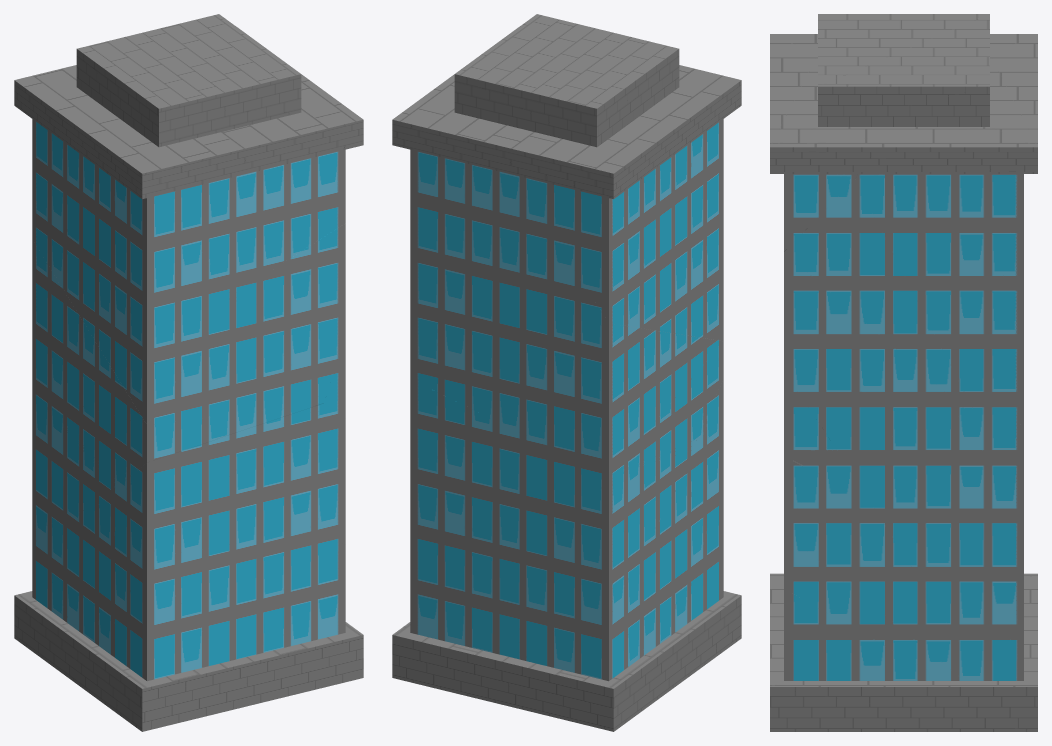
File: SkyScratcher3_destructable.fbx
3 views of the same model, side by side, from view 1: azimuth 30°, elevation 25°; view 2: azimuth 150°, elevation 25°; view 3: azimuth 270°, elevation 25° (orthographic). The views are drawn at different scales.
Parts seen in each view (by area): view 1: SkyScratcher3_destructable, SkyScratcher3_b.001_cell.010, SkyScratcher3_b.001_cell.004, SkyScratcher3_b.001_cell.011, SkyScratcher3_b.001_cell.002, SkyScratcher3_b.001_cell.009, SkyScratcher3_b.001_cell.007, SkyScratcher3_b.001_cell.006, SkyScratcher3_b.001_cell.013, SkyScratcher3_b.001_cell.008; view 2: SkyScratcher3_b.001_cell.010, SkyScratcher3_b.001_cell.006, SkyScratcher3_destructable, SkyScratcher3_b.001_cell, SkyScratcher3_b.001_cell.004, SkyScratcher3_b.001_cell.009, SkyScratcher3_b.001_cell.003, SkyScratcher3_b.001_cell.002; view 3: SkyScratcher3_b.001_cell.013, SkyScratcher3_b.001_cell.010, SkyScratcher3_b.001_cell.012, SkyScratcher3_b.001_cell.003, SkyScratcher3_destructable, SkyScratcher3_b.001_cell.007, SkyScratcher3_b.001_cell.008, SkyScratcher3_b.001_cell.002.
Part boxes in pixels (x1=…): SkyScratcher3_destructable: x1=14, y1=495, x2=363, y2=731; SkyScratcher3_b.001_cell.010: x1=14, y1=14, x2=363, y2=268; SkyScratcher3_b.001_cell.004: x1=51, y1=165, x2=235, y2=424; SkyScratcher3_b.001_cell.011: x1=147, y1=223, x2=345, y2=462; SkyScratcher3_b.001_cell.002: x1=120, y1=403, x2=345, y2=557; SkyScratcher3_b.001_cell.009: x1=32, y1=239, x2=146, y2=483; SkyScratcher3_b.001_cell.007: x1=231, y1=149, x2=345, y2=294; SkyScratcher3_b.001_cell.006: x1=32, y1=392, x2=121, y2=531; SkyScratcher3_b.001_cell.013: x1=305, y1=491, x2=345, y2=544; SkyScratcher3_b.001_cell.008: x1=324, y1=338, x2=345, y2=417; SkyScratcher3_b.001_cell.010: x1=392, y1=14, x2=741, y2=325; SkyScratcher3_b.001_cell.006: x1=410, y1=387, x2=697, y2=651; SkyScratcher3_destructable: x1=392, y1=449, x2=741, y2=731; SkyScratcher3_b.001_cell: x1=426, y1=164, x2=608, y2=475; SkyScratcher3_b.001_cell.004: x1=627, y1=119, x2=723, y2=341; SkyScratcher3_b.001_cell.009: x1=609, y1=323, x2=723, y2=475; SkyScratcher3_b.001_cell.003: x1=410, y1=149, x2=470, y2=387; SkyScratcher3_b.001_cell.002: x1=696, y1=379, x2=723, y2=473; SkyScratcher3_b.001_cell.013: x1=784, y1=422, x2=1023, y2=680; SkyScratcher3_b.001_cell.010: x1=770, y1=14, x2=1037, y2=173; SkyScratcher3_b.001_cell.012: x1=784, y1=180, x2=979, y2=445; SkyScratcher3_b.001_cell.003: x1=855, y1=174, x2=1023, y2=424; SkyScratcher3_destructable: x1=770, y1=573, x2=1037, y2=731; SkyScratcher3_b.001_cell.007: x1=784, y1=174, x2=857, y2=251; SkyScratcher3_b.001_cell.008: x1=784, y1=372, x2=834, y2=465; SkyScratcher3_b.001_cell.002: x1=784, y1=456, x2=802, y2=531.
Bounding box in the file's own units: 1.3 × 3.34 × 1.3.
